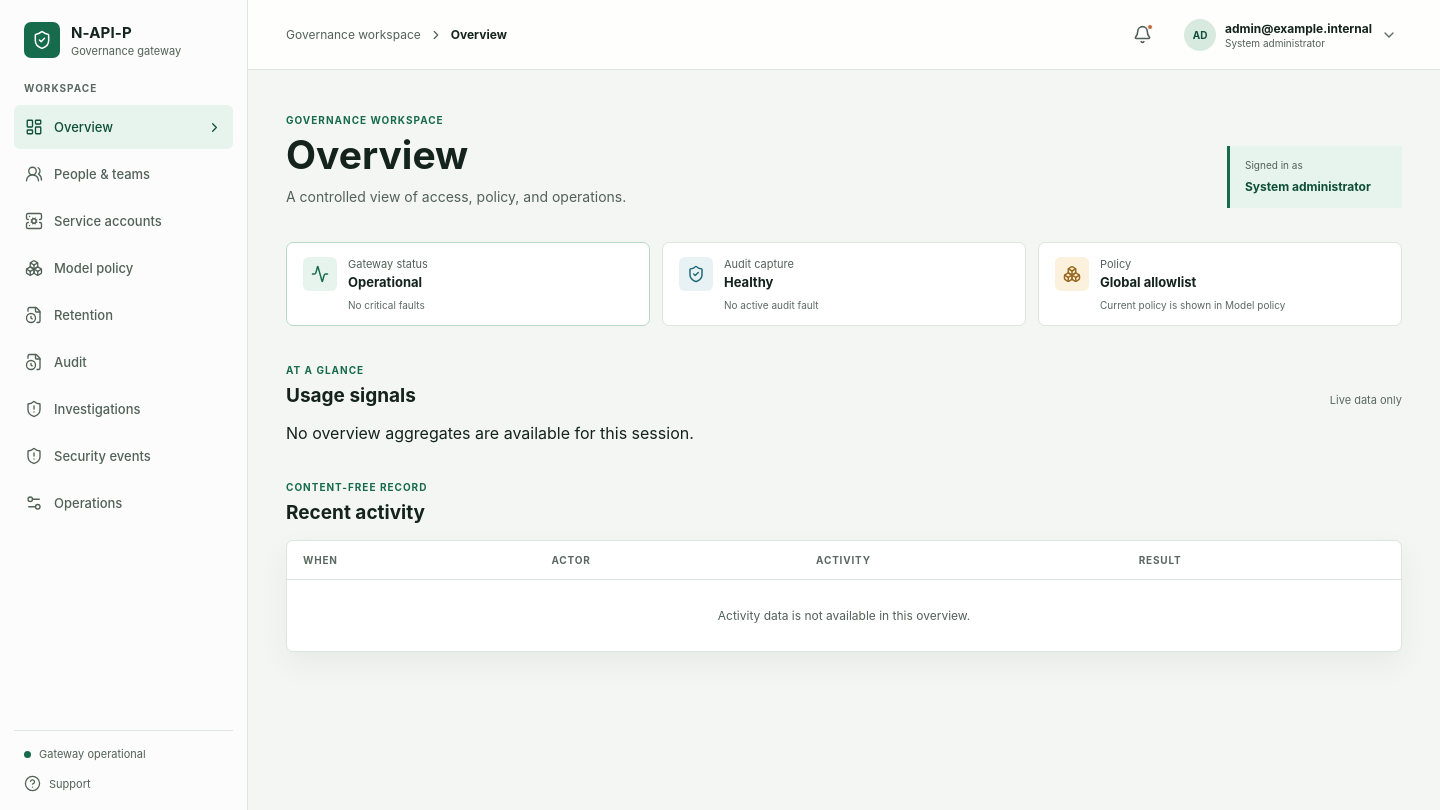
Scenario: returns an expired admin session to sign-in and restores audit metadata after login
This screenshot has width=1440, height=810.
Expected: the text "admin@example.internal" is shown, [1225,20,1372,36]
Click the link "Audit".
click(56, 362)  # box [25,353,87,371]
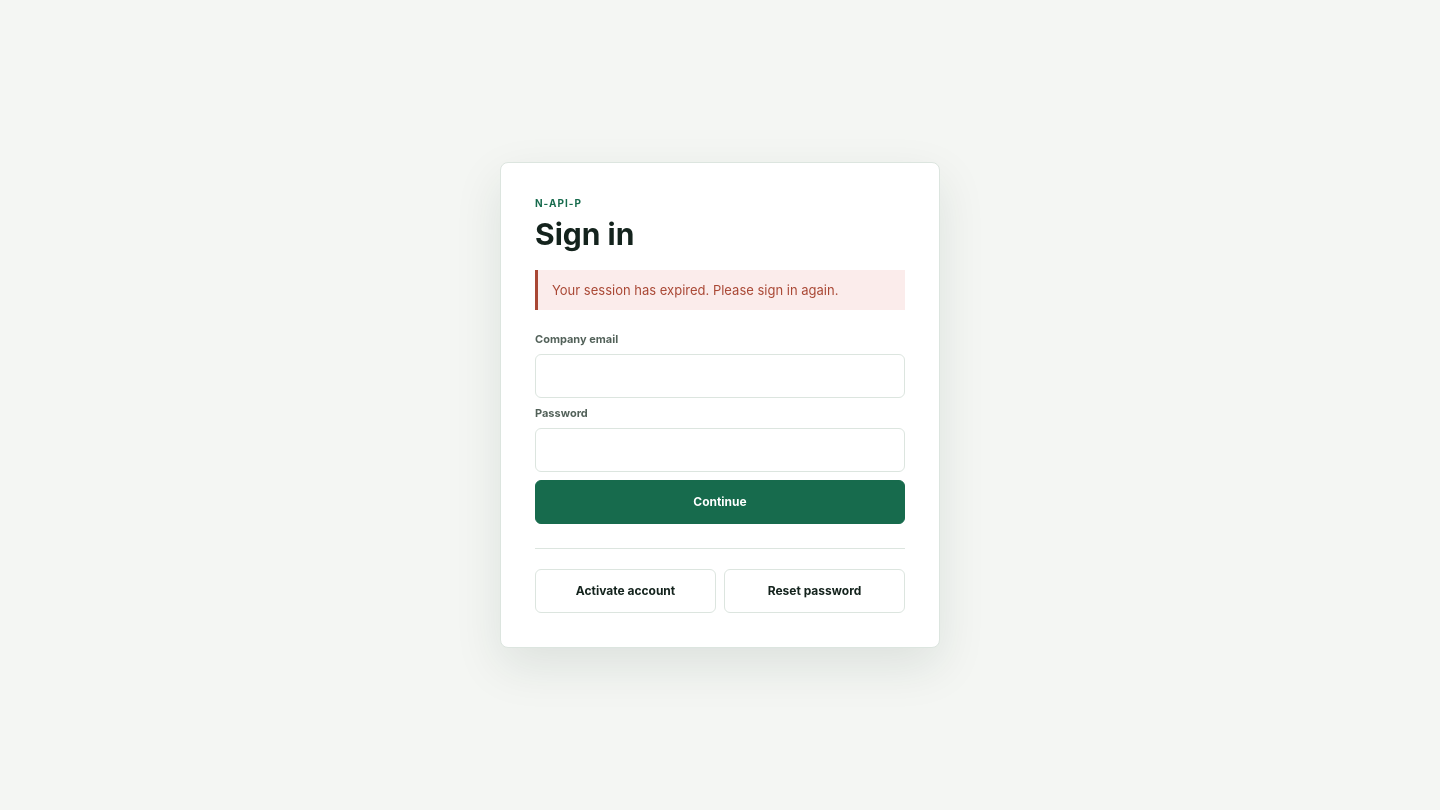
Now the heading "Sign in" is shown, box [535,216,634,252]
Type "admin@example.internal" into the field labelled "Company email".
click(720, 376); type("admin@example.internal")  # box [535,354,905,398]
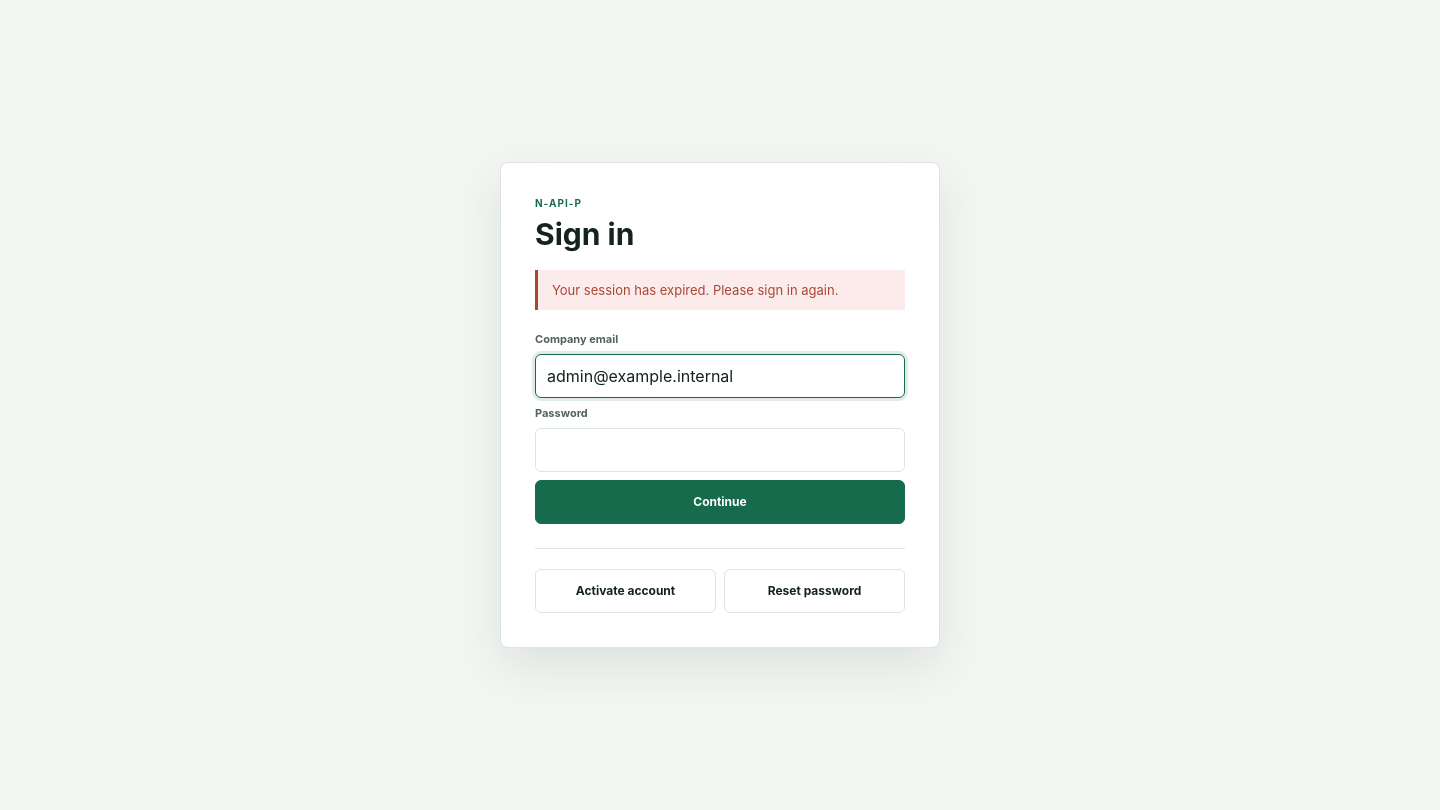
Type "synthetic-password" into the password field labelled "Password".
click(720, 450); type("synthetic-password")  # box [535,428,905,472]
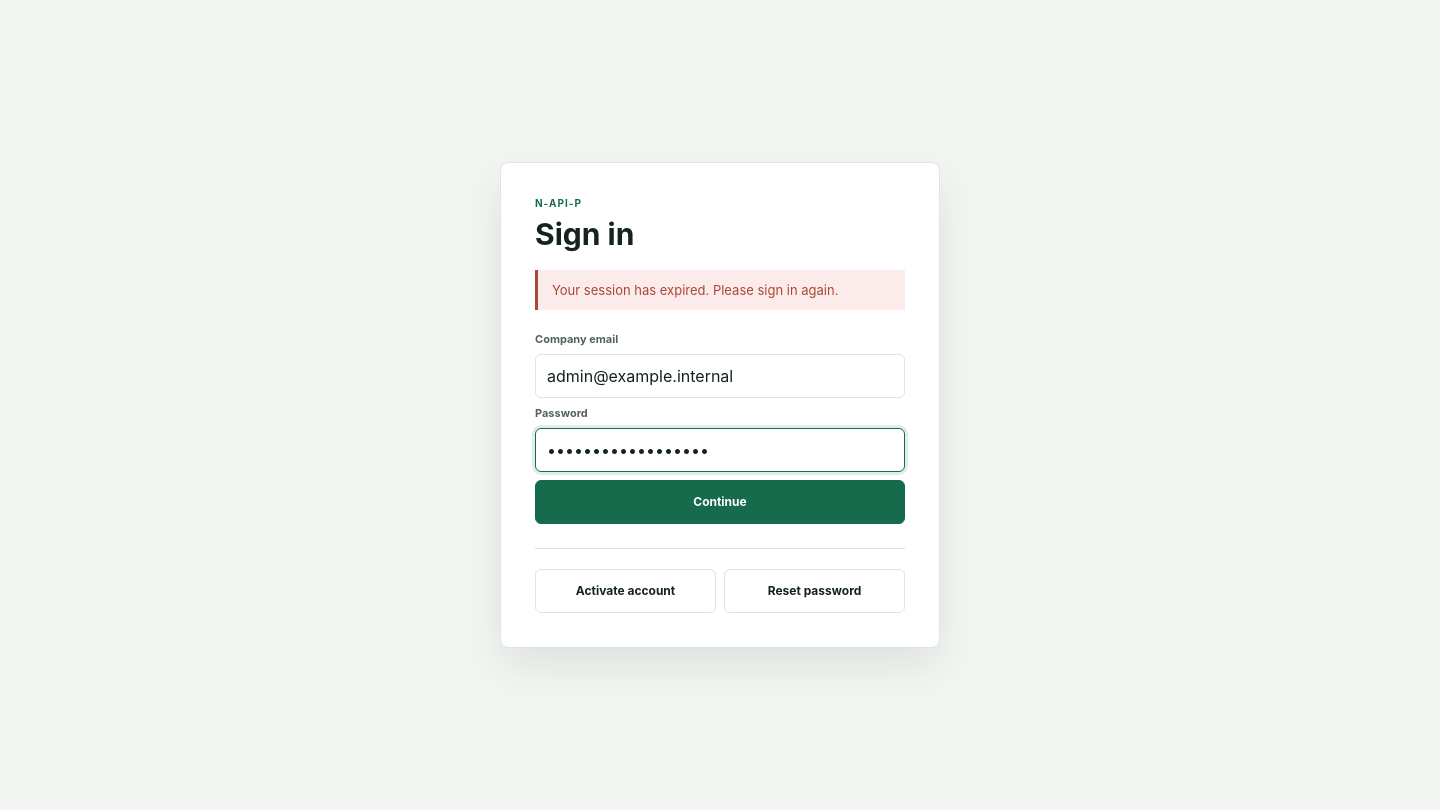
Click the button "Continue".
click(720, 502)  # box [535,480,905,524]
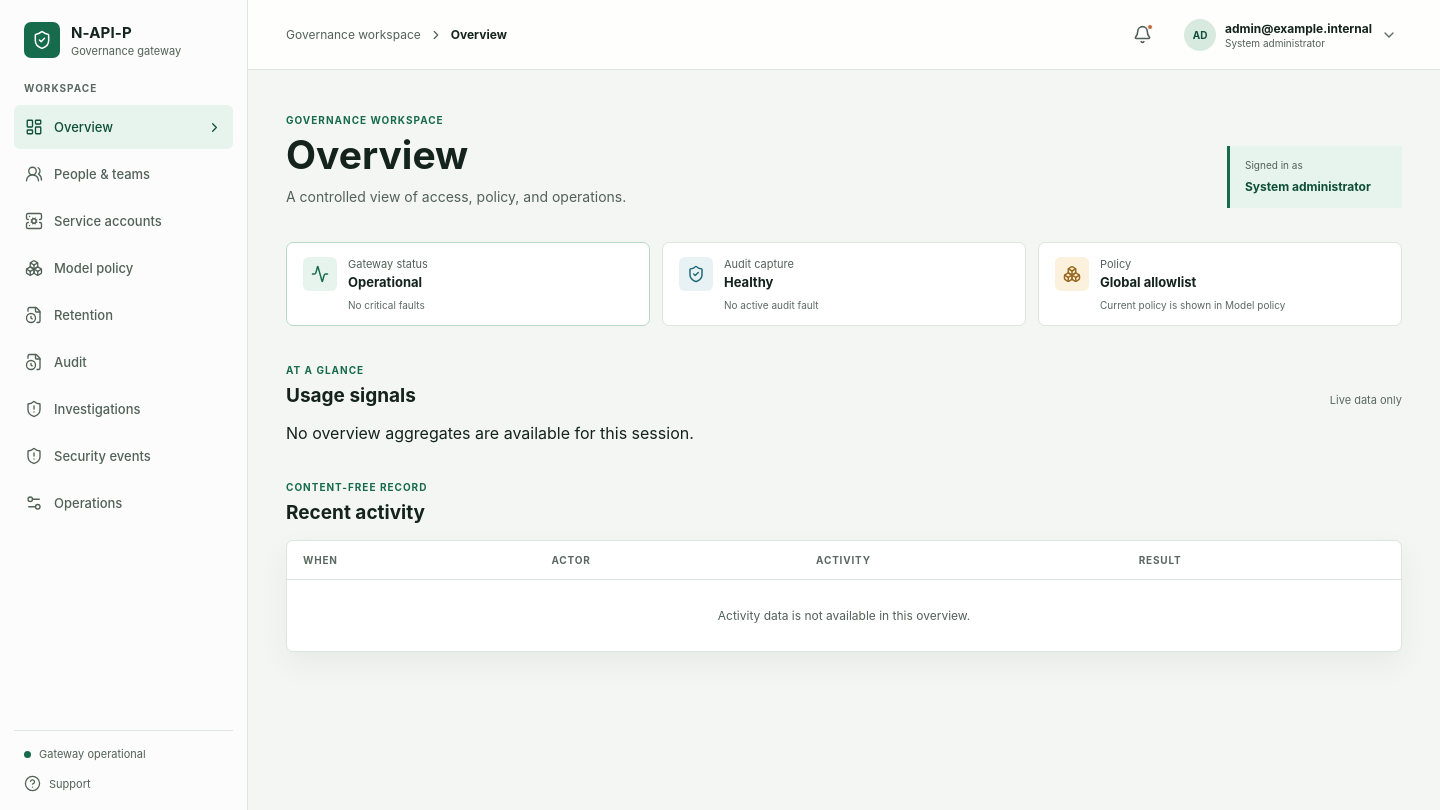
Now the text "admin@example.internal" is shown, box [1225,20,1372,36]
Now the heading "Sign in" is gone
Click the link "Audit".
click(56, 362)  # box [25,353,87,371]
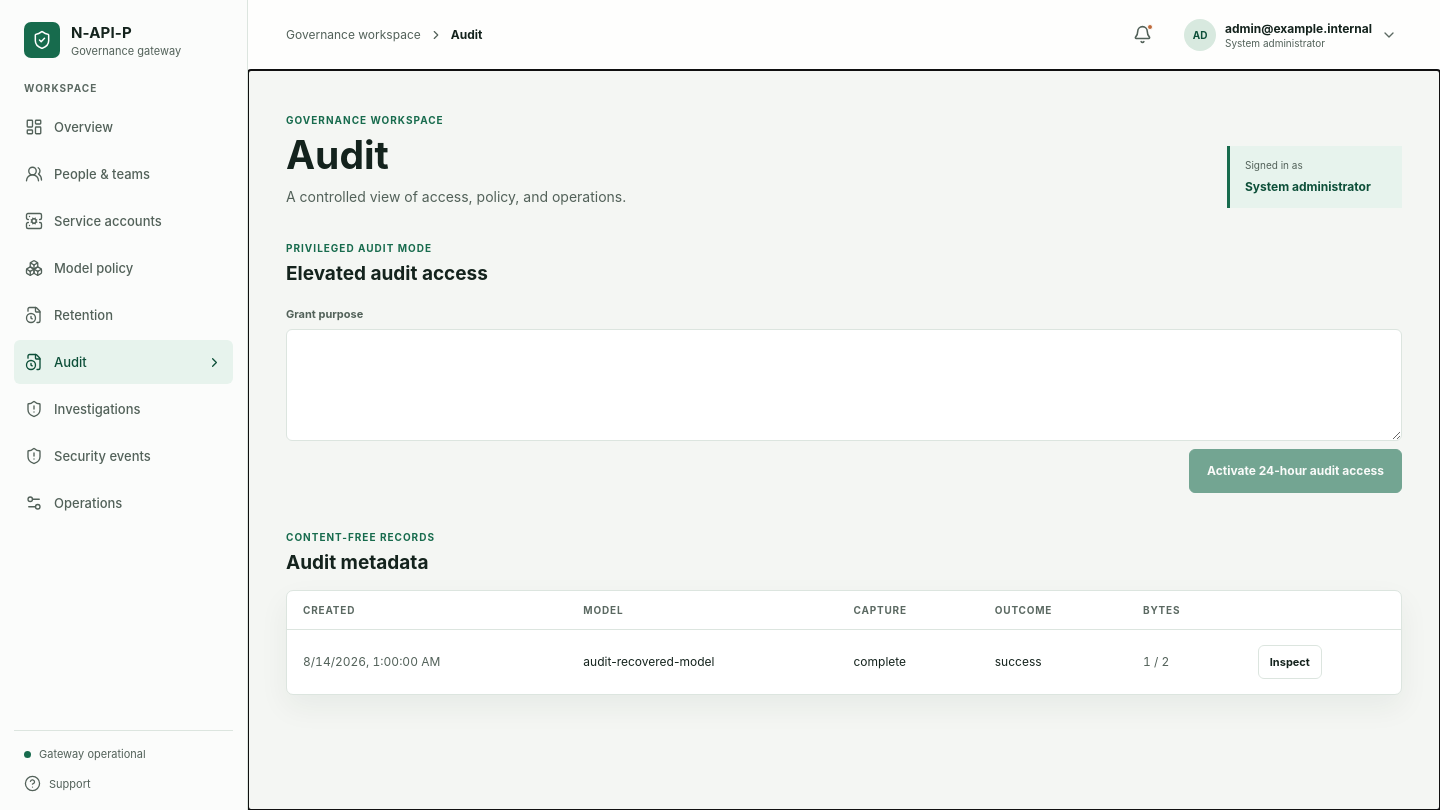
Now the text "audit-recovered-model" is shown, box [567,629,838,694]
